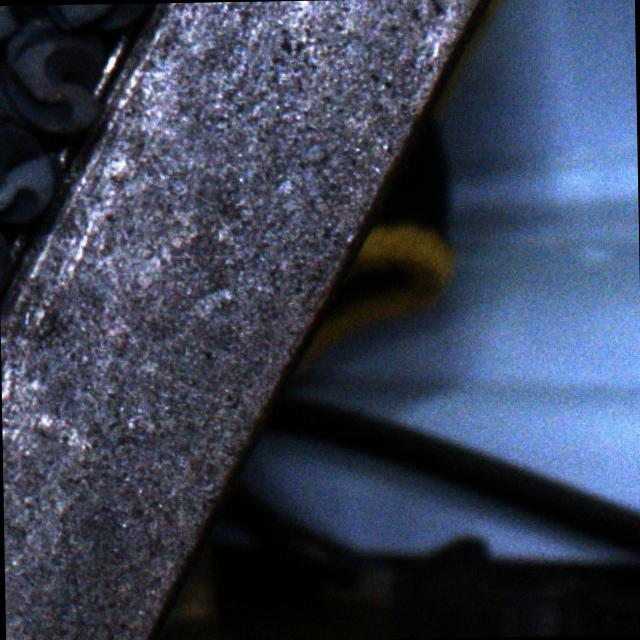tool_b: (0, 5, 105, 135), (0, 102, 54, 222), (27, 3, 158, 31)
